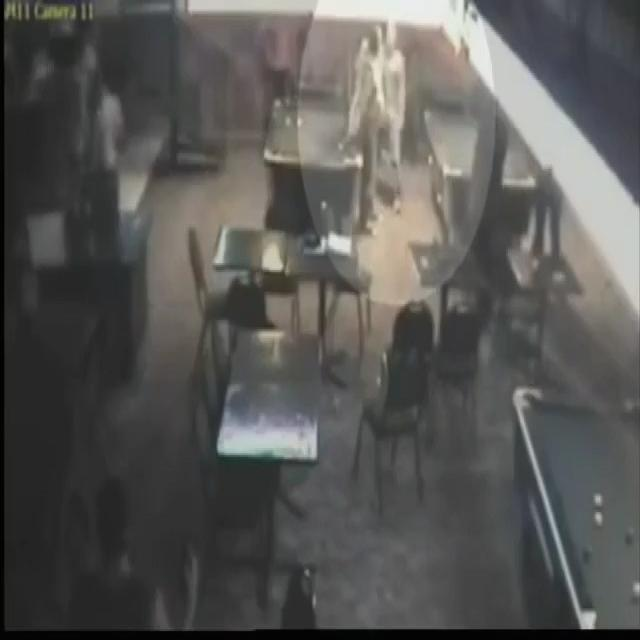fight: (339, 13, 408, 238)
